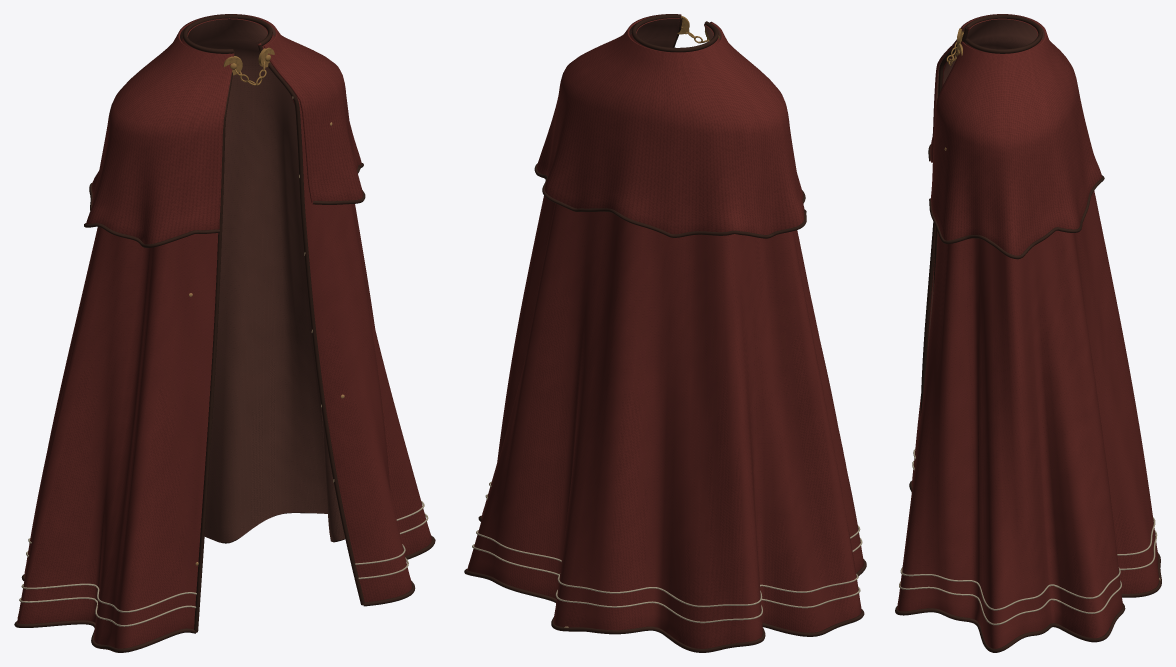
3 renders of one model, left to right at view 1: azimuth 30°, elevation 25°; view 2: azimuth 150°, elevation 25°; view 3: azimuth 270°, elevation 25°, orthographic. The views are drawn at different scales.
Parts seen in each view (by area): view 1: woven wool, brushed wool lining, oiled strap leather, waxed linen thread, aged alloy edge; view 2: woven wool, oiled strap leather, waxed linen thread, brushed wool lining; view 3: woven wool, oiled strap leather, brushed wool lining, waxed linen thread.
Boxes of the visible parts, left/top/right/bottom form: woven wool: left=17, top=14, right=431, bottom=648; brushed wool lining: left=180, top=19, right=345, bottom=542; oiled strap leather: left=14, top=14, right=435, bottom=652; waxed linen thread: left=19, top=501, right=428, bottom=626; aged alloy edge: left=223, top=47, right=274, bottom=85; woven wool: left=467, top=14, right=863, bottom=648; oiled strap leather: left=464, top=14, right=866, bottom=652; waxed linen thread: left=472, top=482, right=862, bottom=623; brushed wool lining: left=629, top=15, right=721, bottom=47; woven wool: left=897, top=14, right=1159, bottom=648; oiled strap leather: left=895, top=14, right=1161, bottom=652; brushed wool lining: left=928, top=19, right=1044, bottom=345; waxed linen thread: left=899, top=449, right=1157, bottom=625.
Size of the model in its own units: 0.855 by 1.15 by 0.5129.
7 materials, 5 textured.
